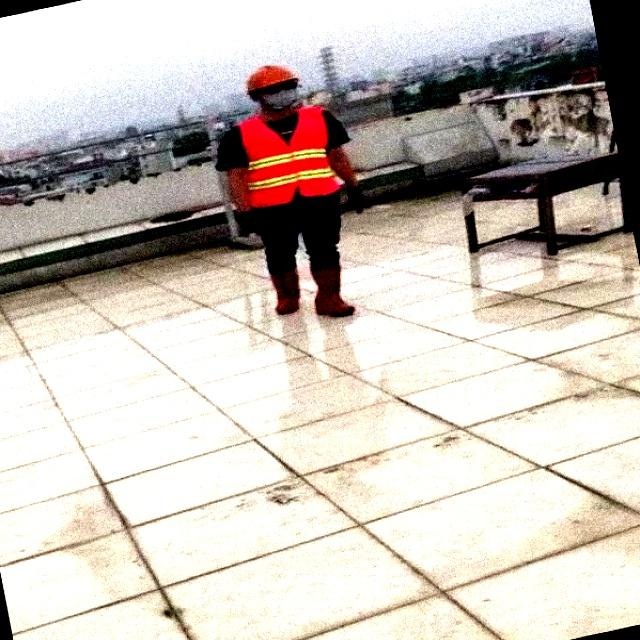helmet: (232, 64, 317, 92)
safety_vest: (224, 113, 382, 214)
